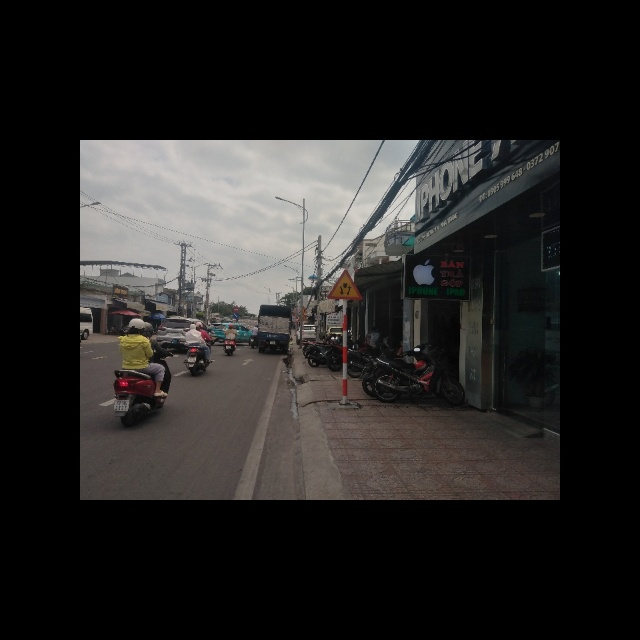Đường đôi: (327, 267, 364, 300)
